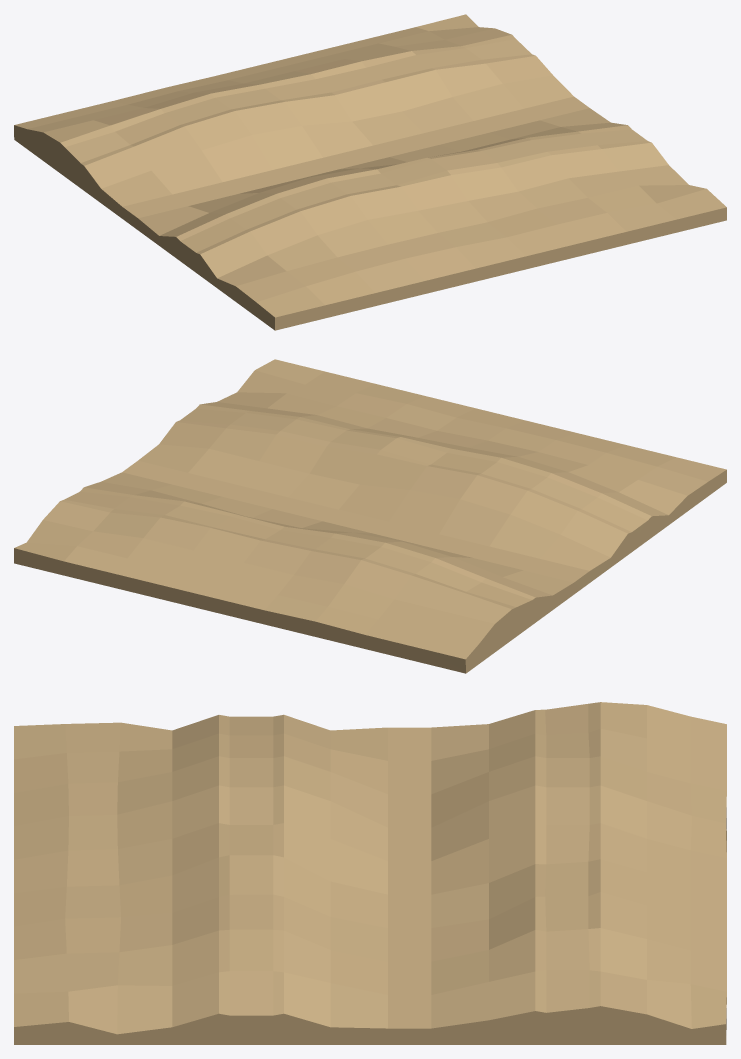
Rendered from soil_hoed_small.fbx.
3 renders of one model, top to bottom at view 1: azimuth 30°, elevation 25°; view 2: azimuth 150°, elevation 25°; view 3: azimuth 270°, elevation 25°, orthographic. The views are drawn at different scales.
Parts seen in each view (by area): view 1: Plane; view 2: Plane; view 3: Plane.
Part boxes in pixels (<box>): Plane: <box>14,14,726,330</box>; Plane: <box>14,359,726,673</box>; Plane: <box>14,702,726,1044</box>.
Size of the model in its own units: 100 by 9.11 by 100.
